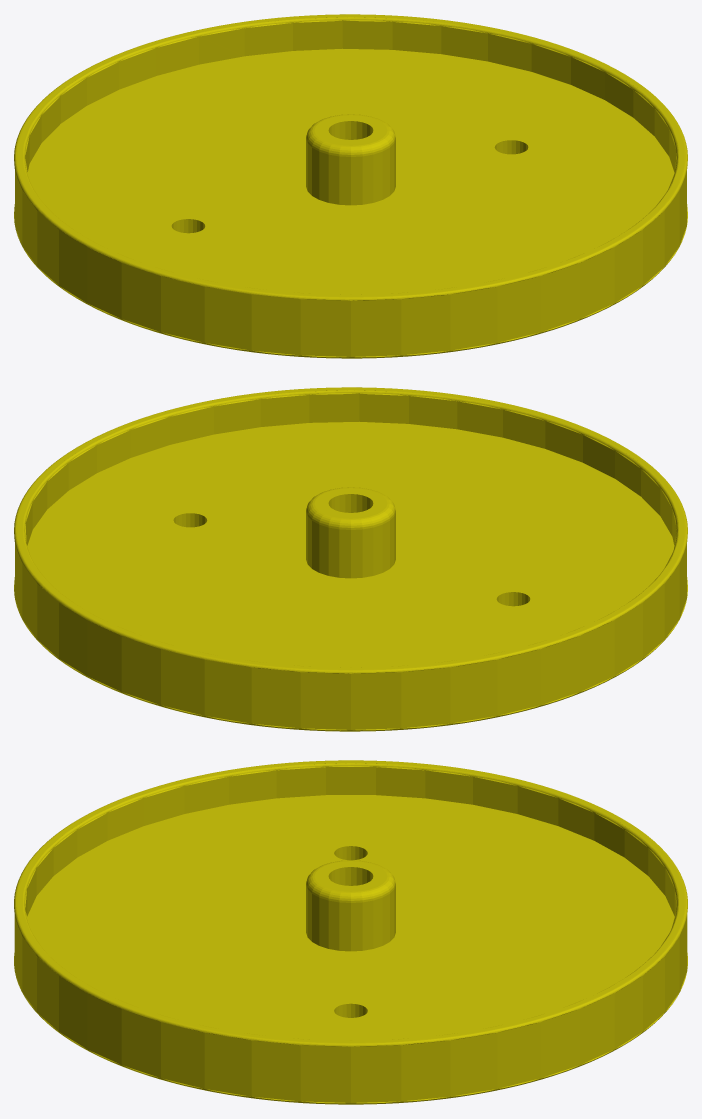
Rendered from TrucBearing_Huong.glb.
The picture shows the model from 3 angles, top to bottom: view 1: azimuth 30°, elevation 25°; view 2: azimuth 150°, elevation 25°; view 3: azimuth 270°, elevation 25°; orthographic projection.
Visible parts, largest first — view 1: defaultobject.001; view 2: defaultobject.001; view 3: defaultobject.001.
Boxes of the visible parts, left/top/right/bottom form: defaultobject.001: left=14, top=14, right=687, bottom=358; defaultobject.001: left=14, top=387, right=687, bottom=731; defaultobject.001: left=14, top=760, right=687, bottom=1104.
Size of the model in its own units: 181 by 33.1 by 180.
